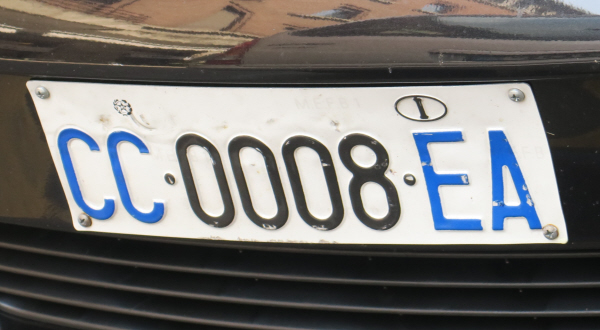license_plate: (24, 78, 569, 244)
